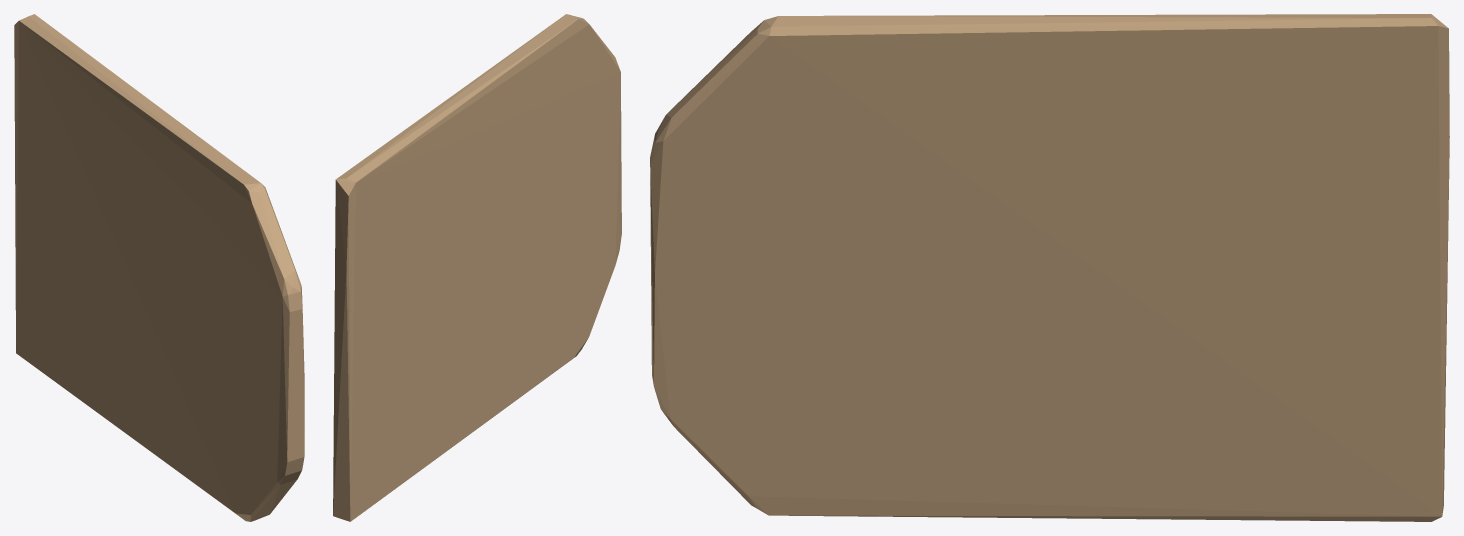
Rendered from kitchenware_cuttingBoard_h01.glb.
The picture shows the model from 3 angles, left to right: view 1: azimuth 30°, elevation 25°; view 2: azimuth 150°, elevation 25°; view 3: azimuth 270°, elevation 25°; orthographic projection. The views are drawn at different scales.
Parts seen in each view (by area): view 1: geometry_0; view 2: geometry_0; view 3: geometry_0.
Boxes of the visible parts, <box> form: geometry_0: <box>14,14,304,521</box>; geometry_0: <box>333,14,621,521</box>; geometry_0: <box>650,14,1449,521</box>.
Bounding box in the file's own units: 0.0204 × 0.3293 × 0.4792.
